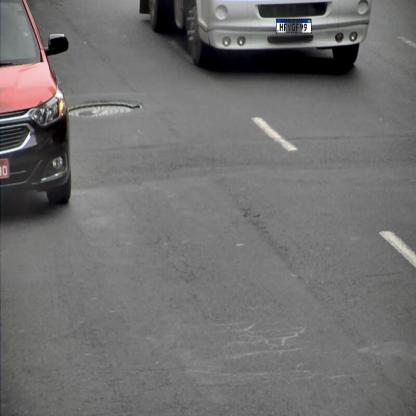PlacaM: (276, 19, 312, 33)
